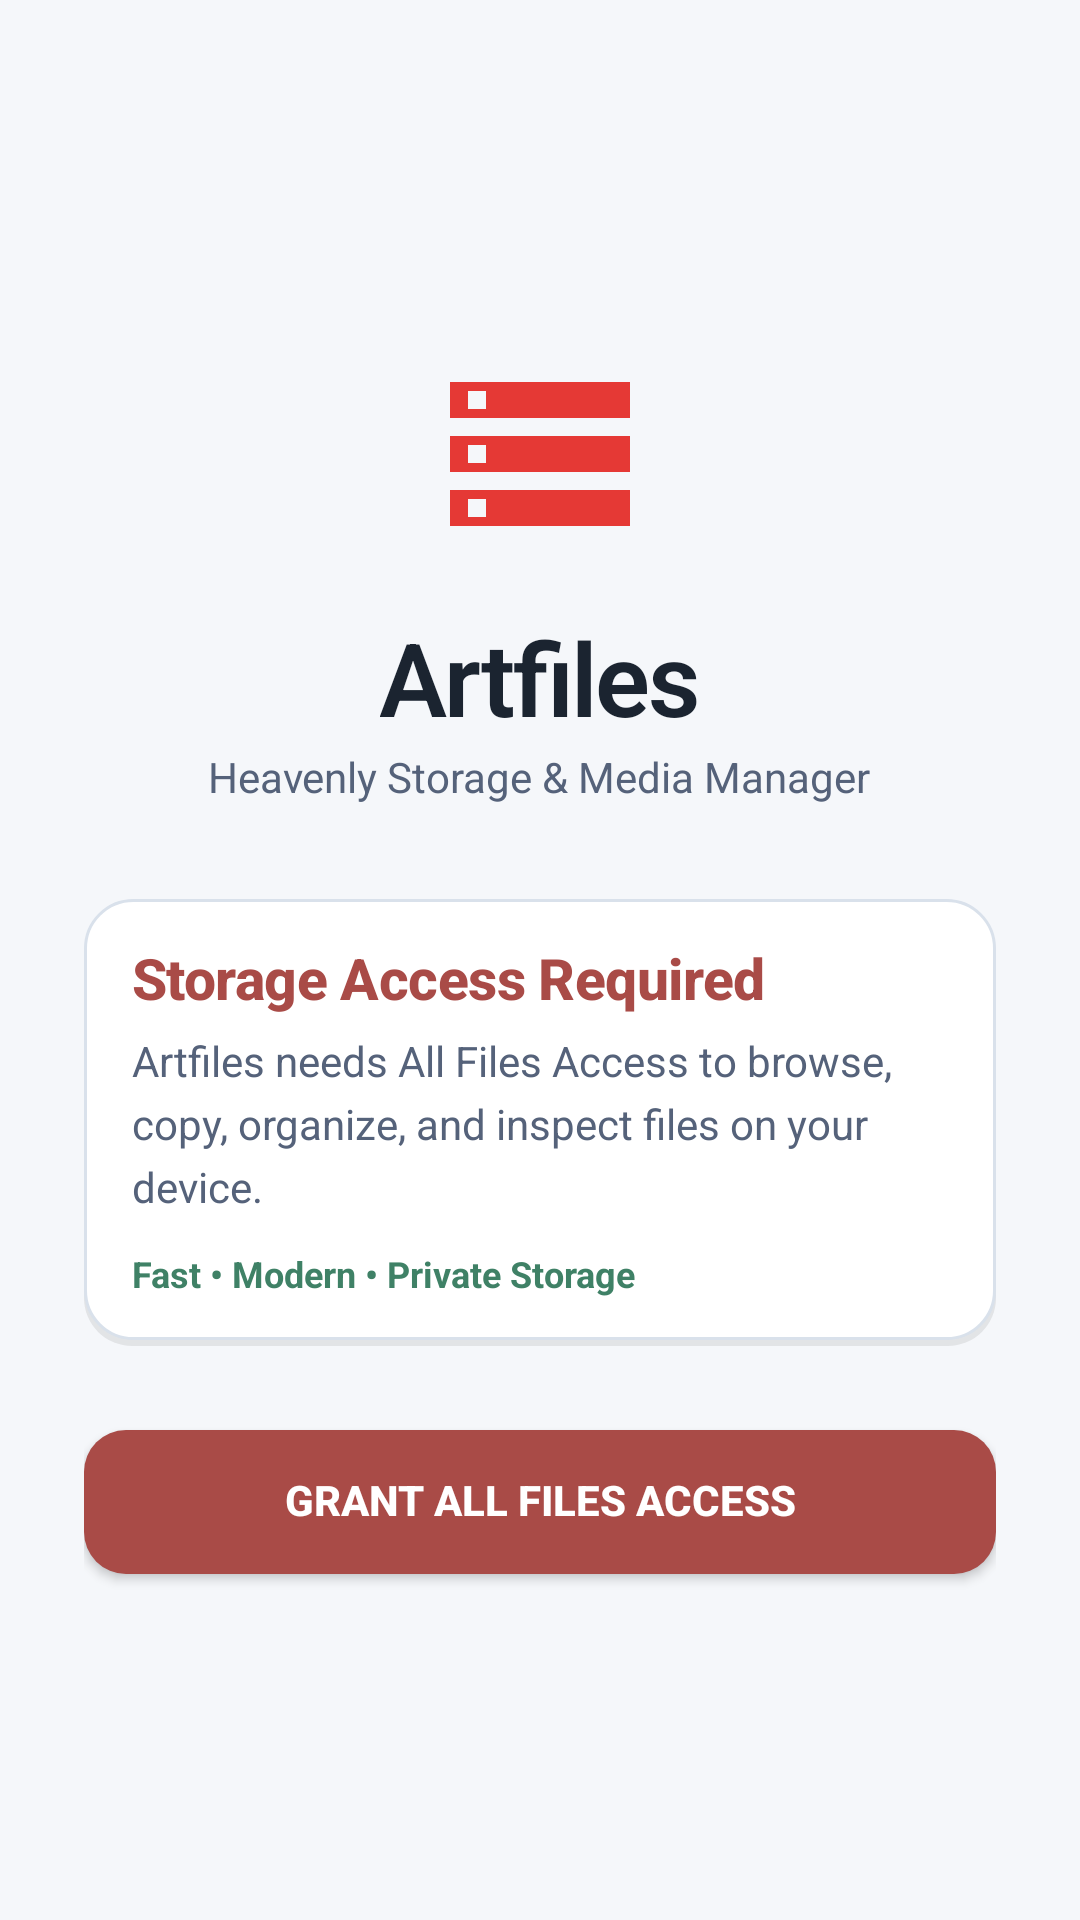

Named icons in this screenshot (1080px×1920px) and their centers, (x,y):
storage: (540,454)
